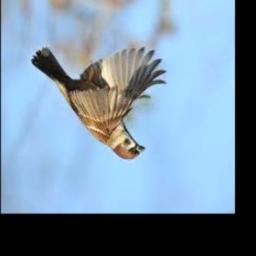Sparrow: (32, 46, 166, 160)
